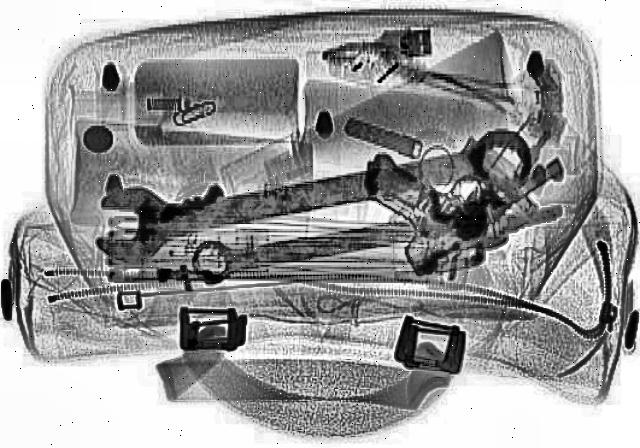Gun: (306, 102, 570, 272)
Wrench: (79, 120, 551, 268), (186, 194, 520, 290)
